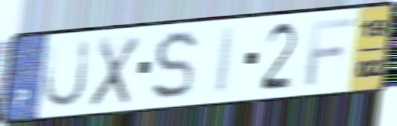2: (259, 20, 301, 94)
F: (303, 15, 357, 88)
I: (212, 24, 240, 98)
S: (150, 28, 200, 103)
U: (40, 37, 93, 111)
X: (87, 34, 143, 109)
